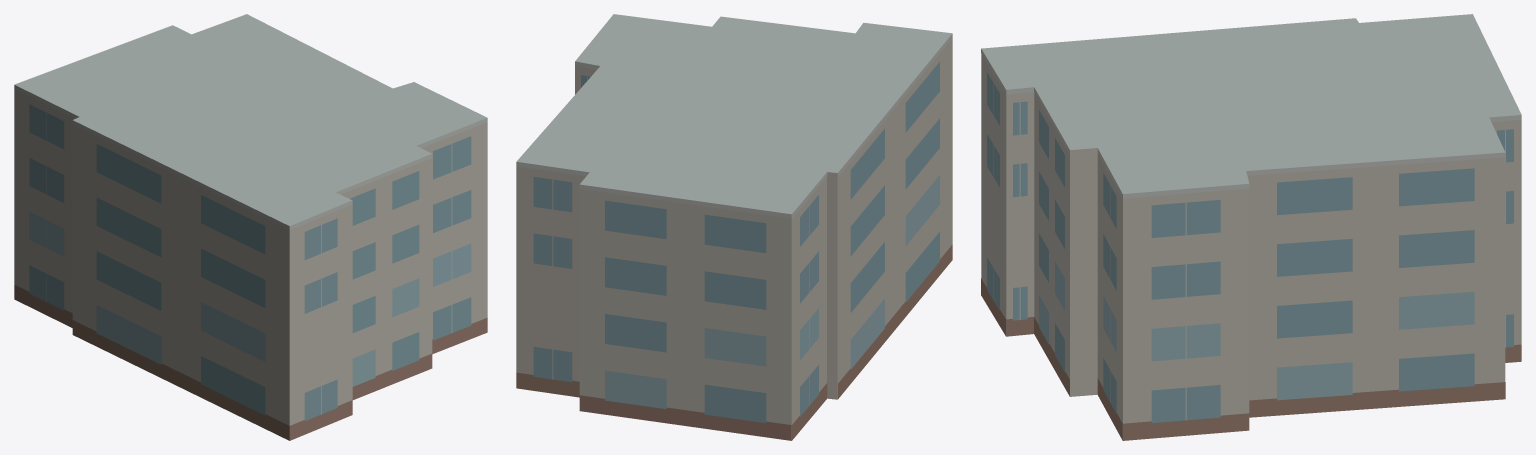
Rendered from survey-upis-32956610.glb.
The picture shows the model from 3 angles, left to right: view 1: azimuth 30°, elevation 25°; view 2: azimuth 150°, elevation 25°; view 3: azimuth 270°, elevation 25°; orthographic projection. The views are drawn at different scales.
Parts seen in each view (by area): view 1: survey-upis-32956610.tmp; view 2: survey-upis-32956610.tmp; view 3: survey-upis-32956610.tmp.
Part boxes in pixels (box(x1,y1,x2,y2)): survey-upis-32956610.tmp: box(14, 14, 487, 440); survey-upis-32956610.tmp: box(516, 14, 952, 440); survey-upis-32956610.tmp: box(981, 14, 1521, 440).
Bounding box in the file's own units: 19.54 × 12.48 × 24.79.
